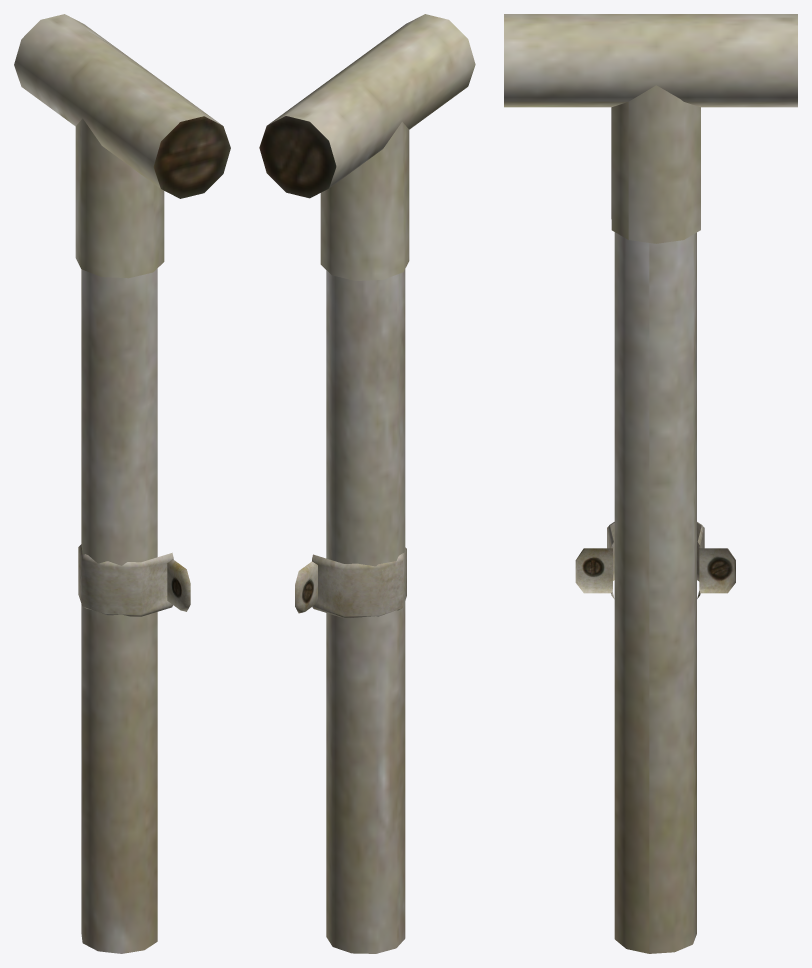
File: Electric_Pipe_Tiny.fbx
The picture shows the model from 3 angles, left to right: view 1: azimuth 30°, elevation 25°; view 2: azimuth 150°, elevation 25°; view 3: azimuth 270°, elevation 25°; orthographic projection. The views are drawn at different scales.
Parts seen in each view (by area): view 1: Electric_Pipe_Tiny; view 2: Electric_Pipe_Tiny; view 3: Electric_Pipe_Tiny.
Part boxes in pixels (x1,y1,x2,y2): Electric_Pipe_Tiny: [14, 14, 230, 953]; Electric_Pipe_Tiny: [259, 14, 475, 953]; Electric_Pipe_Tiny: [504, 14, 797, 953].
Size of the model in its own units: 0.0274 by 0.2947 by 0.0856.
